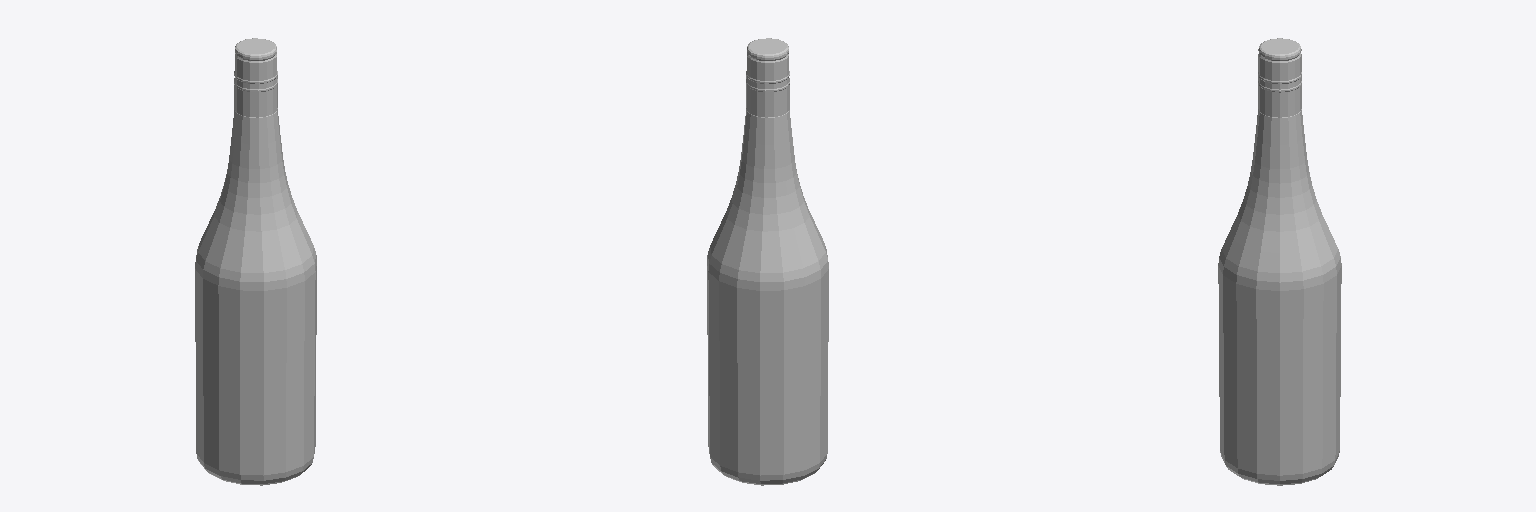
Rendered from wineBottle.obj.
3 views of the same model, side by side, from view 1: azimuth 30°, elevation 25°; view 2: azimuth 150°, elevation 25°; view 3: azimuth 270°, elevation 25° (orthographic).
Parts seen in each view (by area): view 1: Malibu; view 2: Malibu; view 3: Malibu.
Boxes of the visible parts, <box> form: Malibu: <box>195,38,316,485</box>; Malibu: <box>707,38,828,485</box>; Malibu: <box>1218,38,1341,485</box>.
Size of the model in its own units: 0.8 by 3 by 0.8.